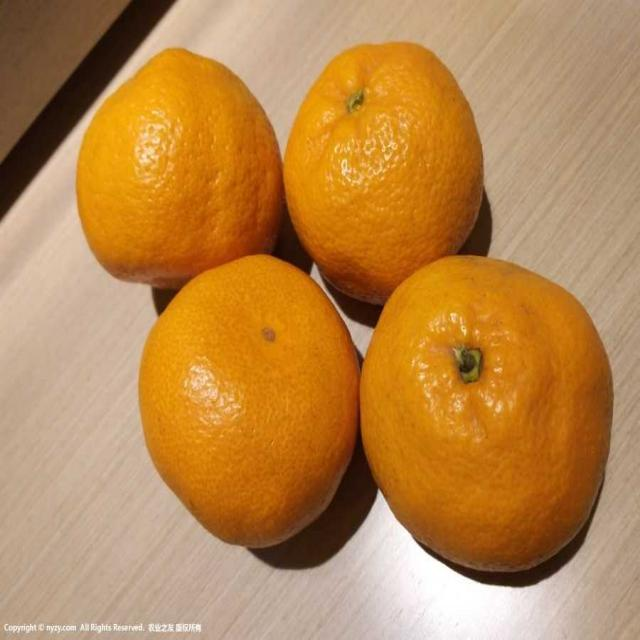Orange: (351, 255, 606, 580), (132, 254, 363, 552), (285, 42, 486, 297), (70, 49, 288, 281)
